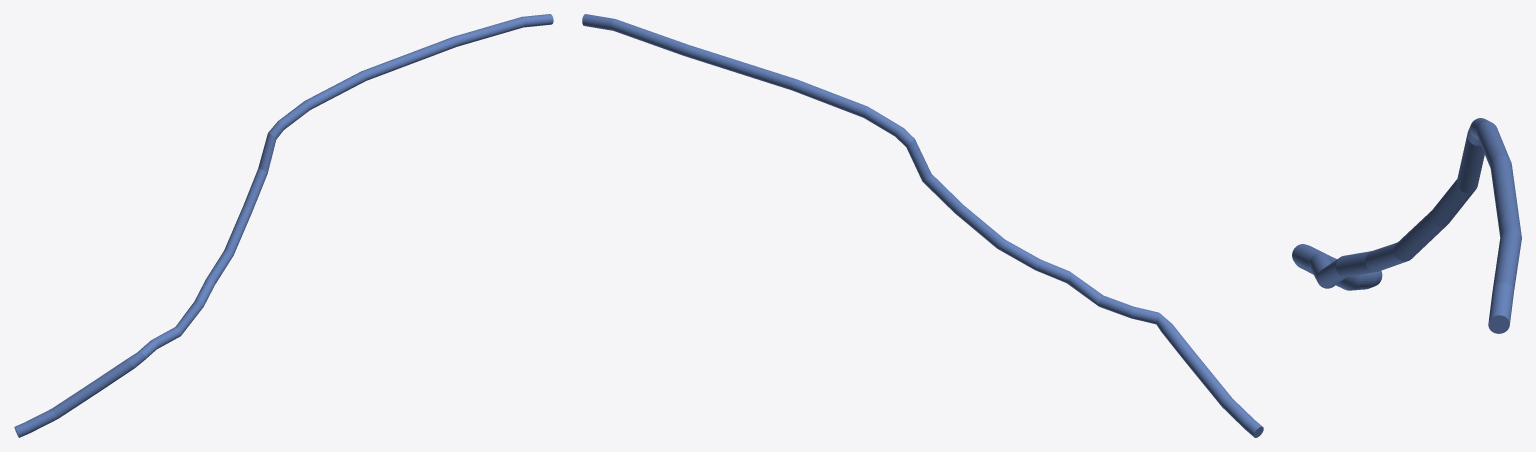
The model's file is S_L_Sphenoparietal_sinus.fbx.
3 renders of one model, left to right at view 1: azimuth 30°, elevation 25°; view 2: azimuth 150°, elevation 25°; view 3: azimuth 270°, elevation 25°, orthographic. The views are drawn at different scales.
Visible parts, largest first — view 1: S_L_Sphenoparietal_sinus; view 2: S_L_Sphenoparietal_sinus; view 3: S_L_Sphenoparietal_sinus.
Part boxes in pixels (bbox=[...]): S_L_Sphenoparietal_sinus: bbox=[14, 14, 553, 437]; S_L_Sphenoparietal_sinus: bbox=[582, 14, 1263, 437]; S_L_Sphenoparietal_sinus: bbox=[1292, 118, 1521, 333].
Bounding box in the file's own units: 14917 × 6633 × 2611.
